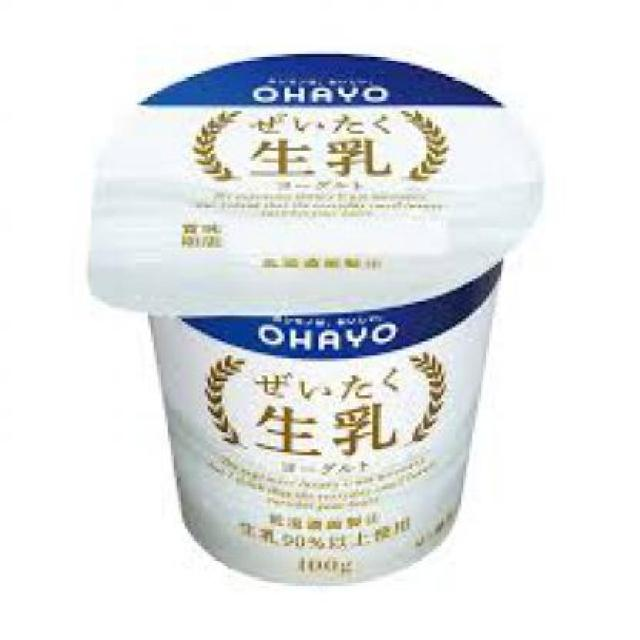plastic: (83, 54, 541, 580)
